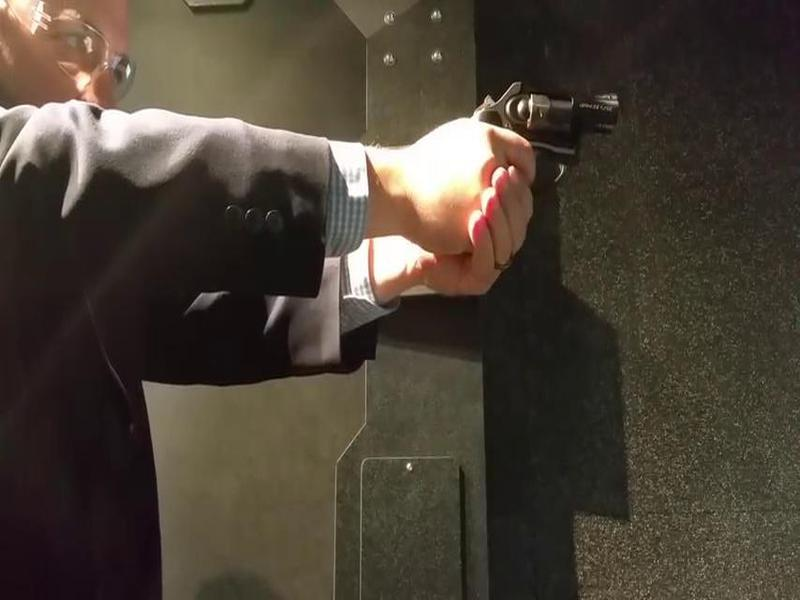Revolver: (447, 67, 628, 222)
